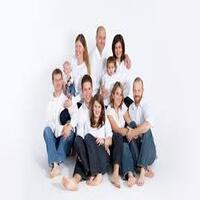person: (103, 79, 131, 113), (128, 72, 155, 106), (75, 70, 99, 107), (66, 31, 93, 63), (45, 66, 70, 100), (109, 26, 132, 61), (87, 25, 111, 52), (91, 92, 109, 126), (104, 53, 119, 78)
